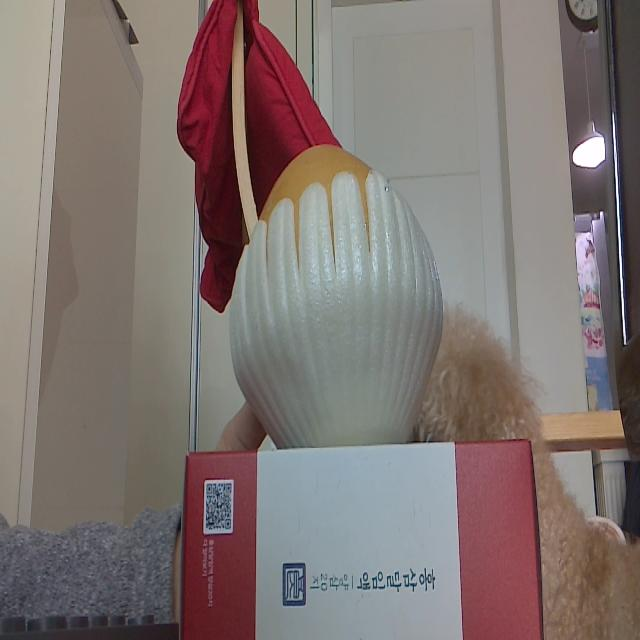pear: (234, 138, 444, 446)
